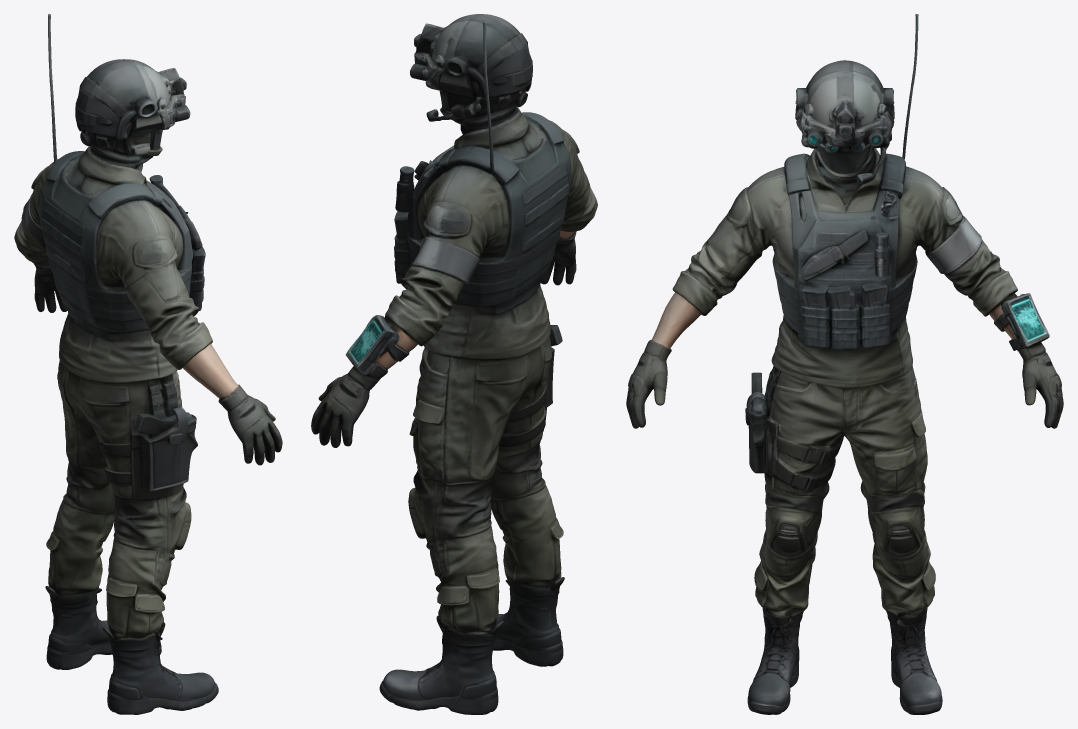
The model's file is visioner_karakter.glb.
The picture shows the model from 3 angles, left to right: view 1: azimuth 30°, elevation 25°; view 2: azimuth 150°, elevation 25°; view 3: azimuth 270°, elevation 25°; orthographic projection. The views are drawn at different scales.
Parts seen in each view (by area): view 1: tripo_node_a7c8243c-906f-47c5-ac5b-b4c5ea0a52b8; view 2: tripo_node_a7c8243c-906f-47c5-ac5b-b4c5ea0a52b8; view 3: tripo_node_a7c8243c-906f-47c5-ac5b-b4c5ea0a52b8.
Boxes of the visible parts, left/top/right/bottom form: tripo_node_a7c8243c-906f-47c5-ac5b-b4c5ea0a52b8: left=14, top=14, right=282, bottom=714; tripo_node_a7c8243c-906f-47c5-ac5b-b4c5ea0a52b8: left=311, top=14, right=597, bottom=714; tripo_node_a7c8243c-906f-47c5-ac5b-b4c5ea0a52b8: left=626, top=14, right=1063, bottom=714.
Size of the model in its own units: 0.2158 by 0.999 by 0.5997.
Materials: 1 (1 with a texture image).
